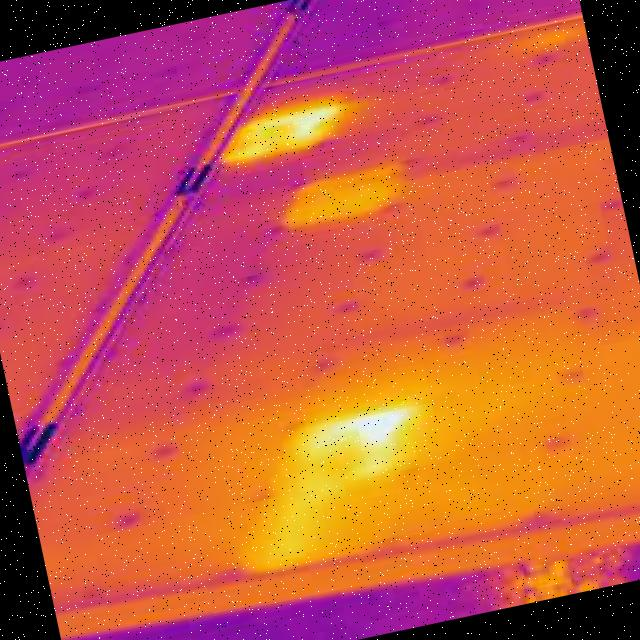Hotspot: (262, 397, 442, 551), (204, 92, 363, 175), (270, 154, 419, 236)
